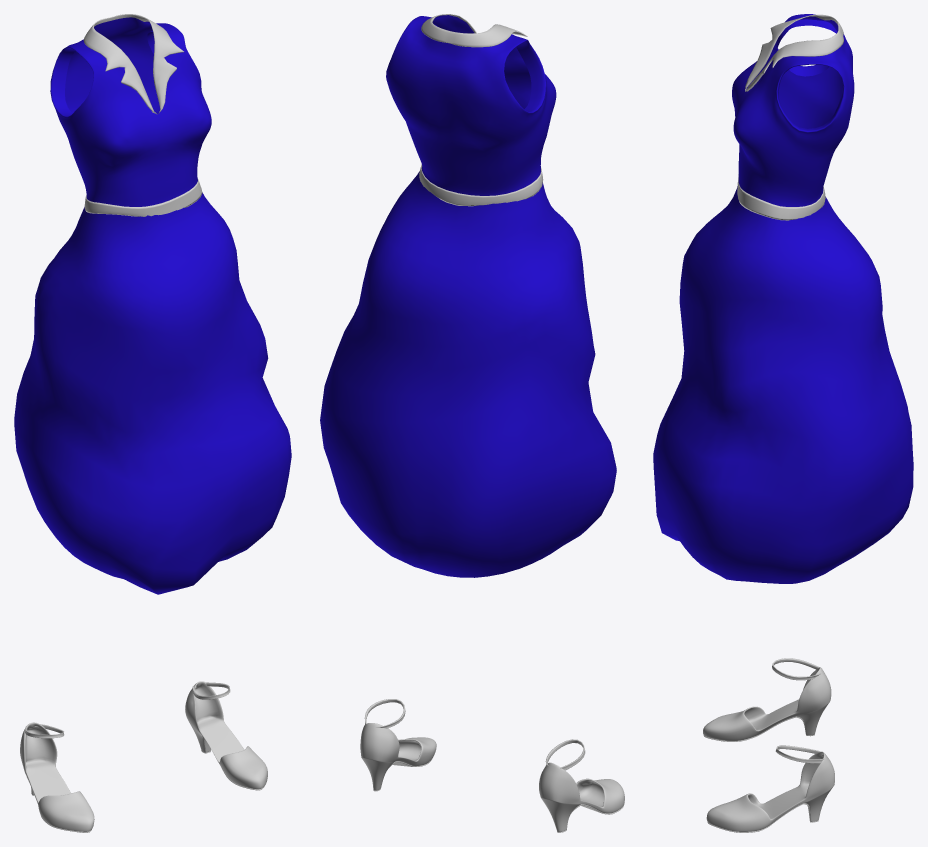
Rendered from nvquntao5.obj.
The picture shows the model from 3 angles, left to right: view 1: azimuth 30°, elevation 25°; view 2: azimuth 150°, elevation 25°; view 3: azimuth 270°, elevation 25°; orthographic projection. The views are drawn at different scales.
Visible parts, largest first — view 1: nvquntao2.001; view 2: nvquntao2.001; view 3: nvquntao2.001.
Boxes of the visible parts, x1,y1,x2,y2 form: nvquntao2.001: (14,14,291,832); nvquntao2.001: (320,14,624,832); nvquntao2.001: (653,14,913,832).
Bounding box in the file's own units: 2.36 × 6.97 × 2.18.
